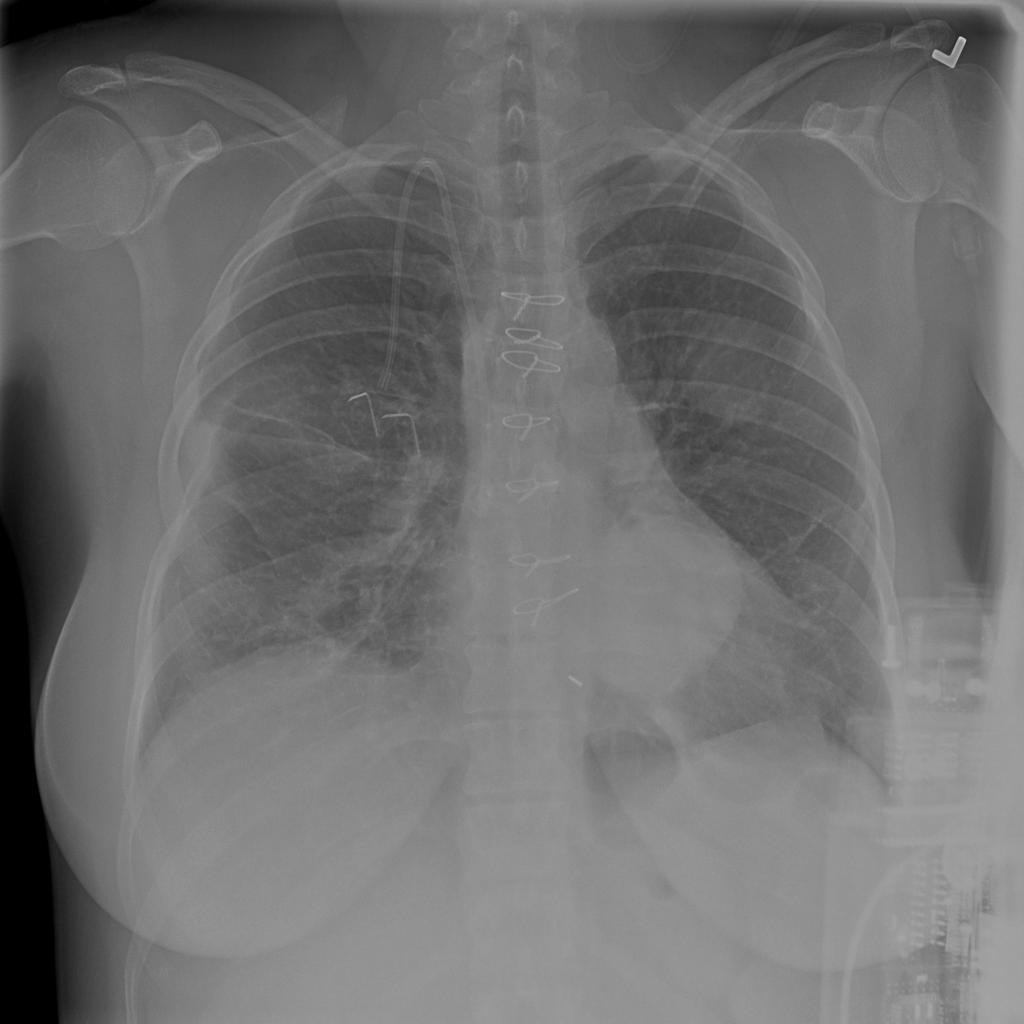nodule: (555, 491, 776, 701), (676, 312, 788, 442)
